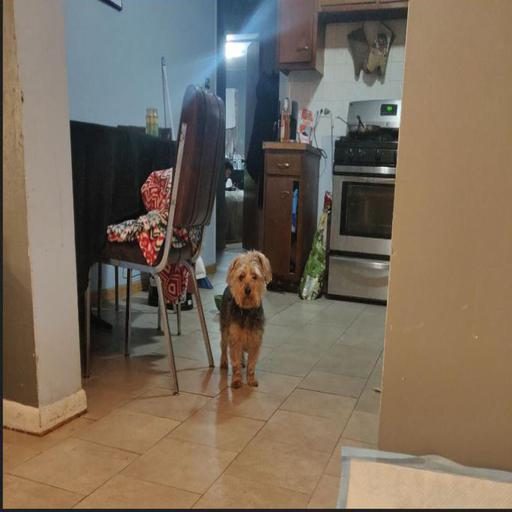dog: (189, 248, 304, 363)
